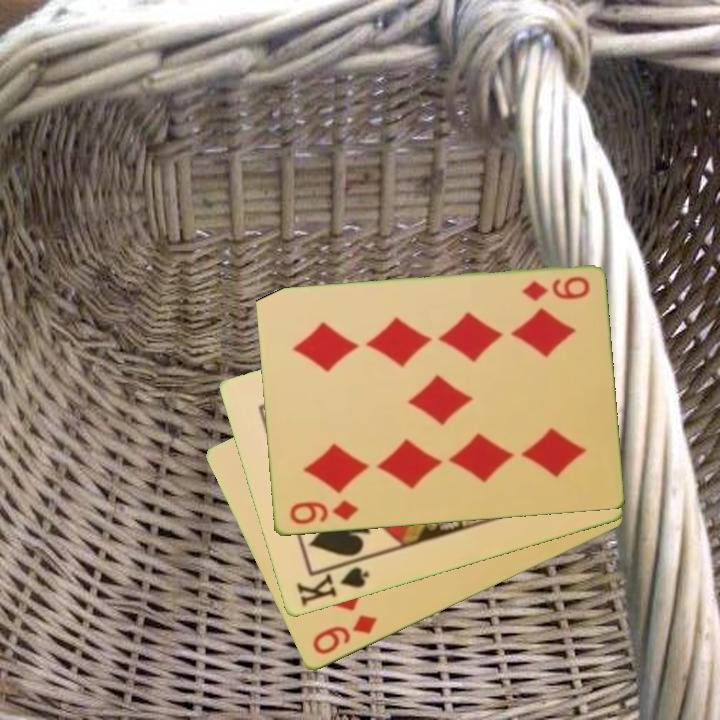9d: (308, 611, 380, 658), (518, 273, 592, 305), (286, 497, 360, 528)
Ks: (292, 556, 372, 610)
